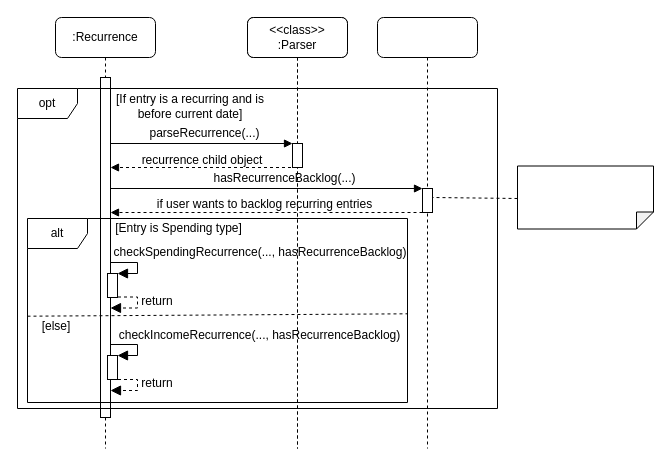
This 671x466 diagram has some shape labels left out. The centre of each missing label's shape, as x and y in pixels:
"<<class>> :Ui" goes at point (427, 232).
"return stored as a boolean in local variable hasRecurrenceBacklog" goes at point (585, 197).
